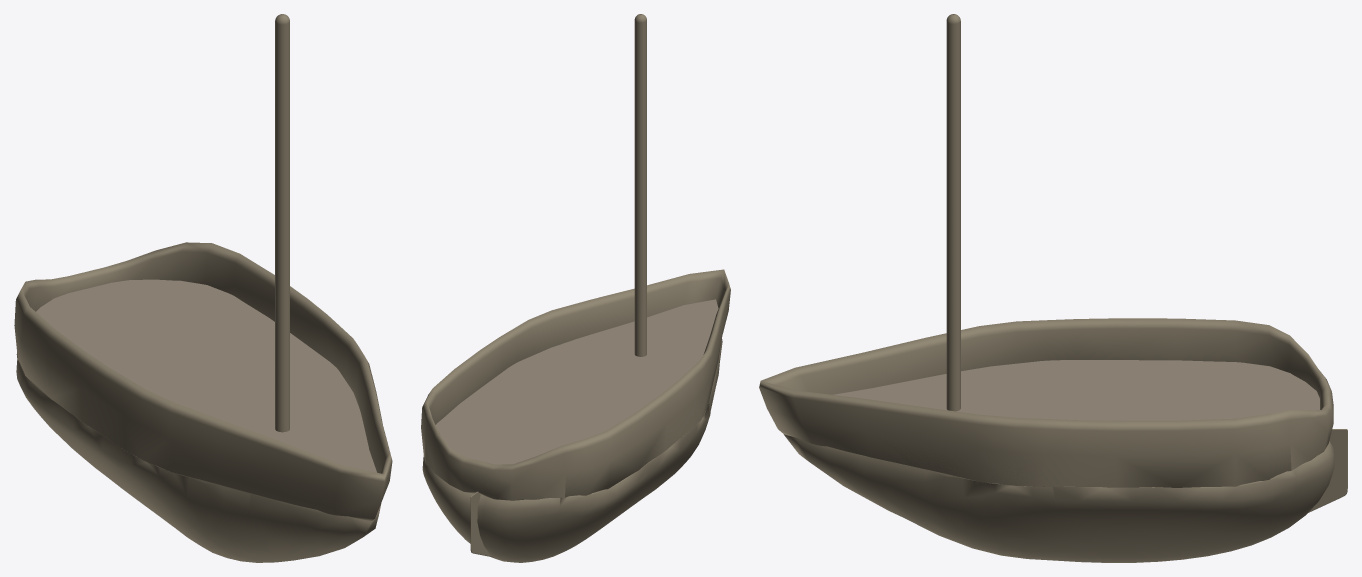
File: boatv4.fbx
3 views of the same model, side by side, from view 1: azimuth 30°, elevation 25°; view 2: azimuth 150°, elevation 25°; view 3: azimuth 270°, elevation 25° (orthographic). The views are drawn at different scales.
Parts seen in each view (by area): view 1: boat04.001; view 2: boat04.001; view 3: boat04.001.
Boxes of the visible parts, left/top/right/bottom form: boat04.001: left=14, top=14, right=392, bottom=562; boat04.001: left=421, top=14, right=730, bottom=562; boat04.001: left=759, top=14, right=1347, bottom=562.
Bounding box in the file's own units: 14098 × 33071 × 32396.
